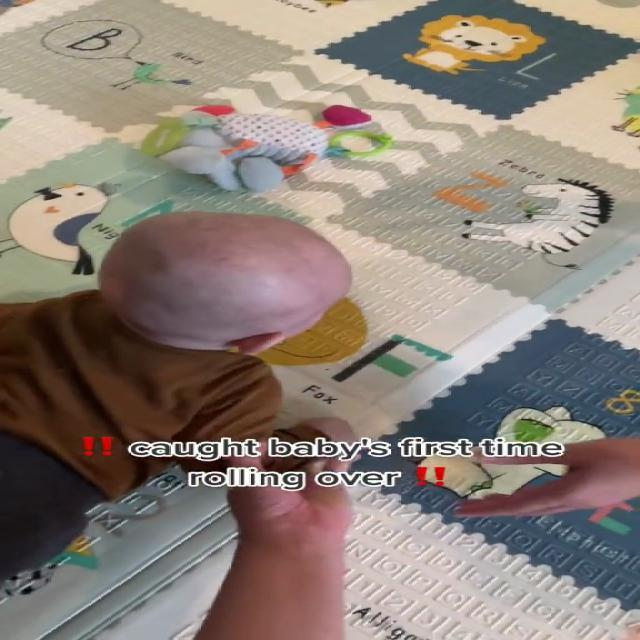baby: (0, 206, 373, 592)
